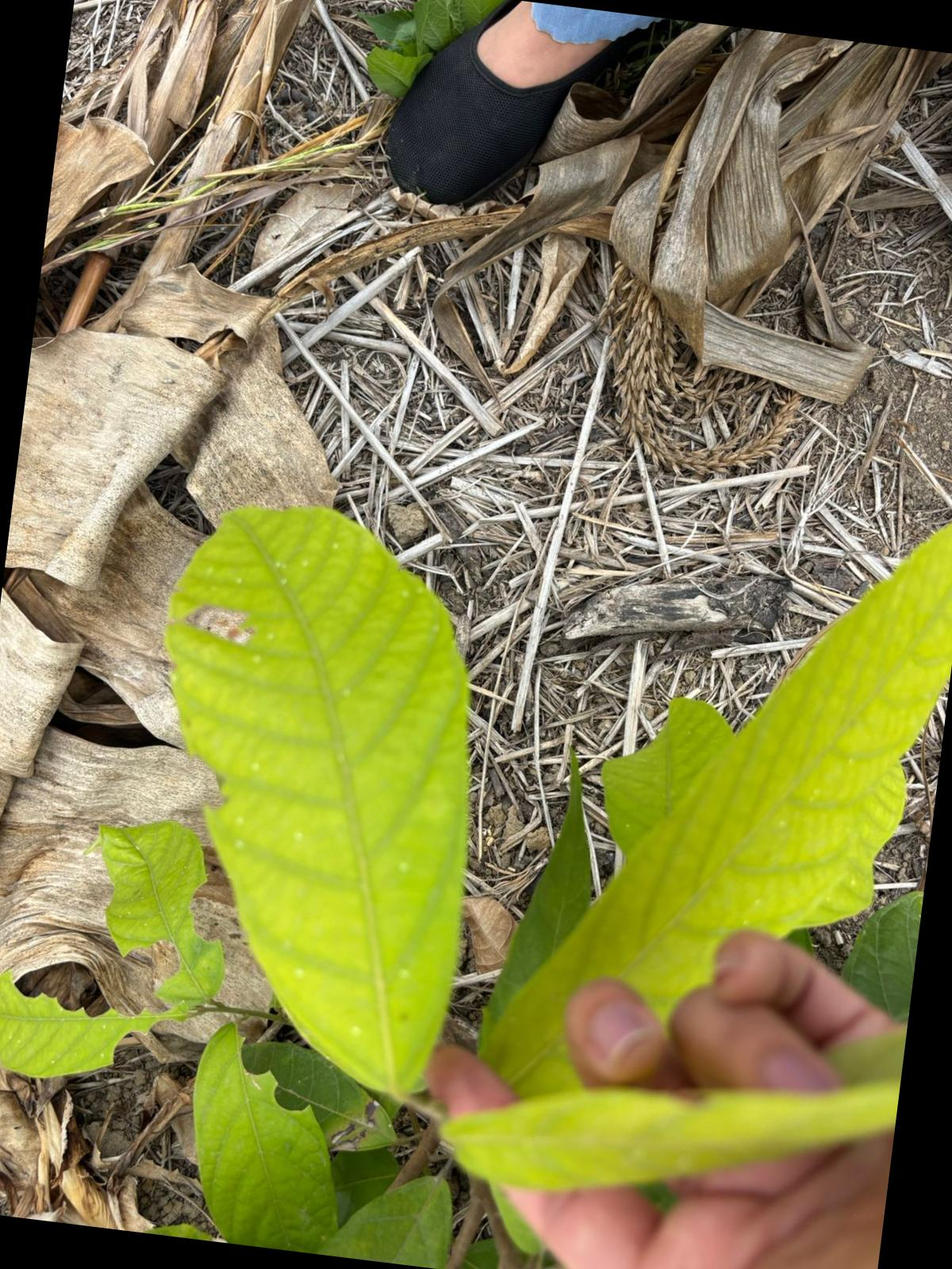Nitrogeno: (488, 527, 952, 1098), (166, 508, 468, 1094)
